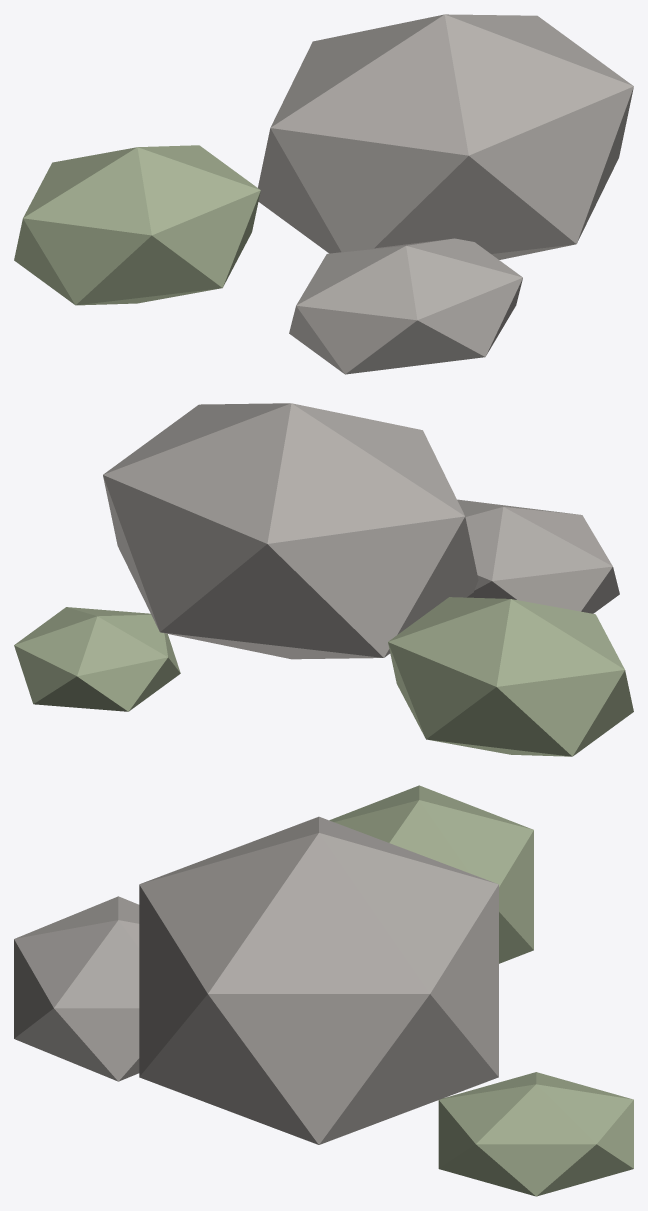
Rendered from rocks.glb.
3 views of the same model, one above another, from view 1: azimuth 30°, elevation 25°; view 2: azimuth 150°, elevation 25°; view 3: azimuth 270°, elevation 25° (orthographic). The views are drawn at different scales.
Parts seen in each view (by area): view 1: Boulder_A, Boulder_B, Boulder_C; view 2: Boulder_A, Boulder_B, Boulder_D, Boulder_C; view 3: Boulder_A, Boulder_D, Boulder_C, Boulder_B.
Part boxes in pixels (<box>): Boulder_A: <box>258,14,633,259</box>; Boulder_B: <box>14,145,260,305</box>; Boulder_C: <box>289,238,522,374</box>; Boulder_A: <box>103,403,478,659</box>; Boulder_B: <box>388,597,633,756</box>; Boulder_D: <box>14,607,180,711</box>; Boulder_C: <box>457,499,619,613</box>; Boulder_A: <box>139,816,498,1144</box>; Boulder_D: <box>438,1072,633,1196</box>; Boulder_C: <box>14,896,139,1081</box>; Boulder_B: <box>329,785,533,963</box>.
Bounding box in the file's own units: 4.4 × 1.95 × 3.71.
